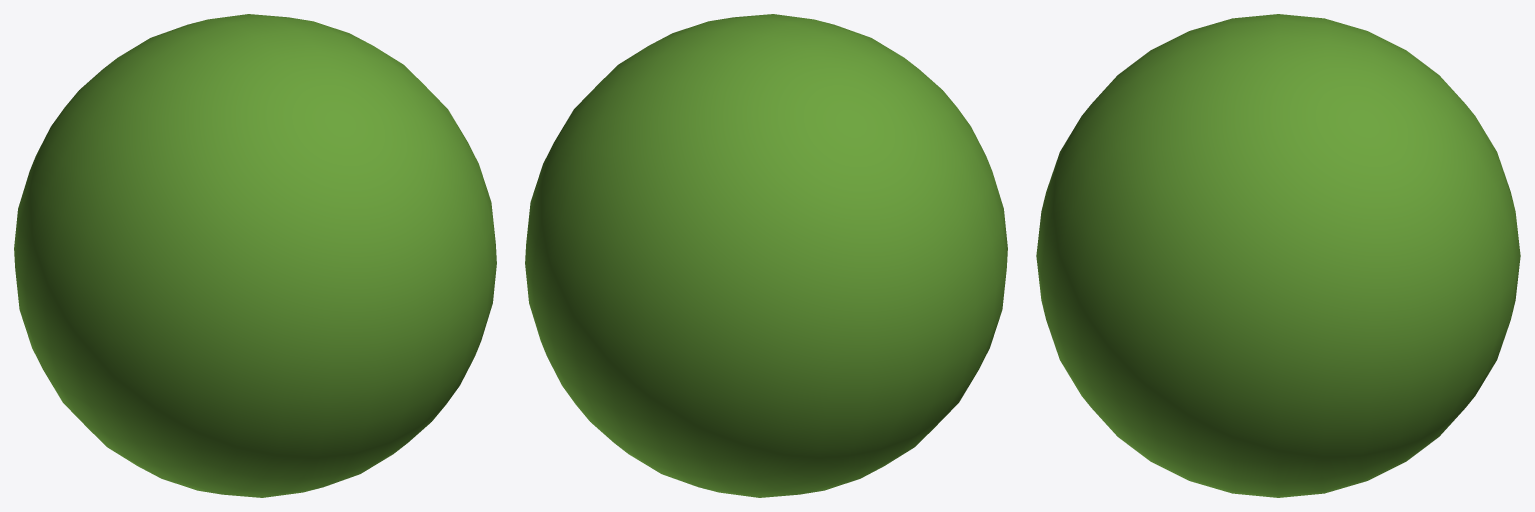
The model's file is green_circle.glb.
The picture shows the model from 3 angles, left to right: view 1: azimuth 30°, elevation 25°; view 2: azimuth 150°, elevation 25°; view 3: azimuth 270°, elevation 25°; orthographic projection.
Parts seen in each view (by area): view 1: Cube.6665; view 2: Cube.6665; view 3: Cube.6665.
Boxes of the visible parts, box(x1,y1,x2,y2) form: Cube.6665: box(14, 14, 496, 497); Cube.6665: box(525, 14, 1007, 497); Cube.6665: box(1036, 14, 1520, 497).
Size of the model in its own units: 2.23 by 2.23 by 2.23.
Materials: 1 (1 with a texture image).
